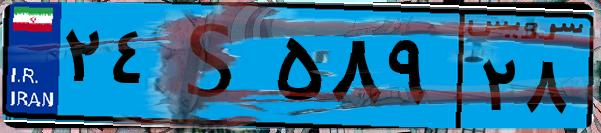2: (57, 26, 110, 100), (475, 38, 525, 113)
4: (110, 28, 158, 98)
5: (270, 28, 330, 110)
8: (330, 28, 385, 110), (525, 38, 570, 115)
9: (385, 28, 445, 110)
S: (158, 12, 270, 120)
